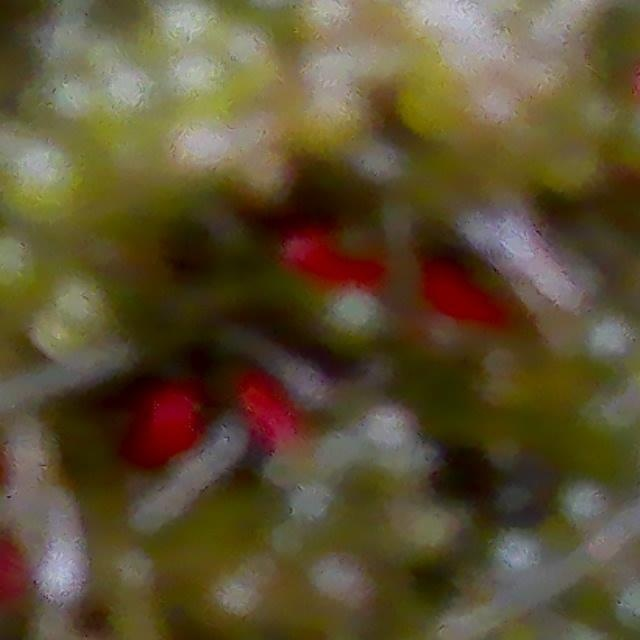SeaGrape: (0, 128, 100, 236)
